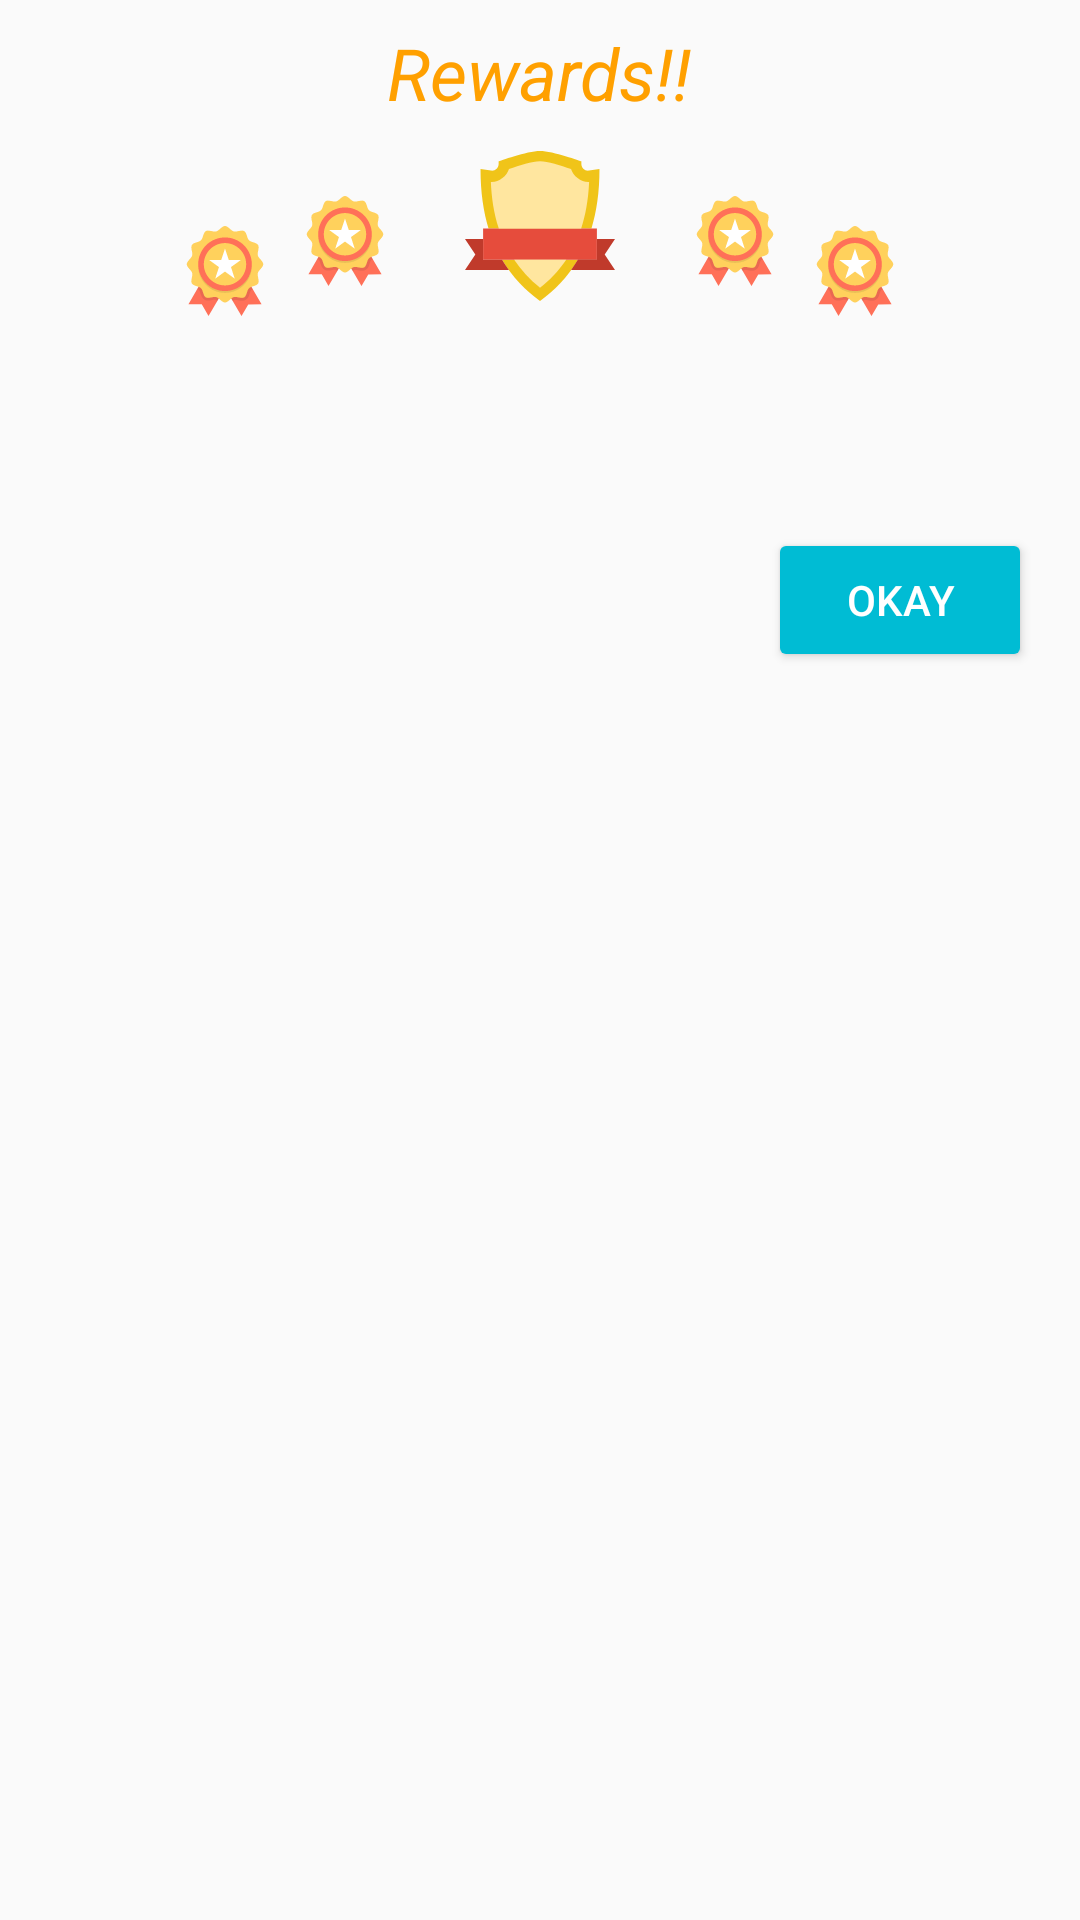

Where icons sit on this 1080px x 1920px app screen, as (x1, y1, x2, y2):
badge: (465, 151, 615, 301)
medal: (306, 196, 384, 286), (696, 196, 774, 286), (186, 226, 264, 316), (816, 226, 894, 316)
